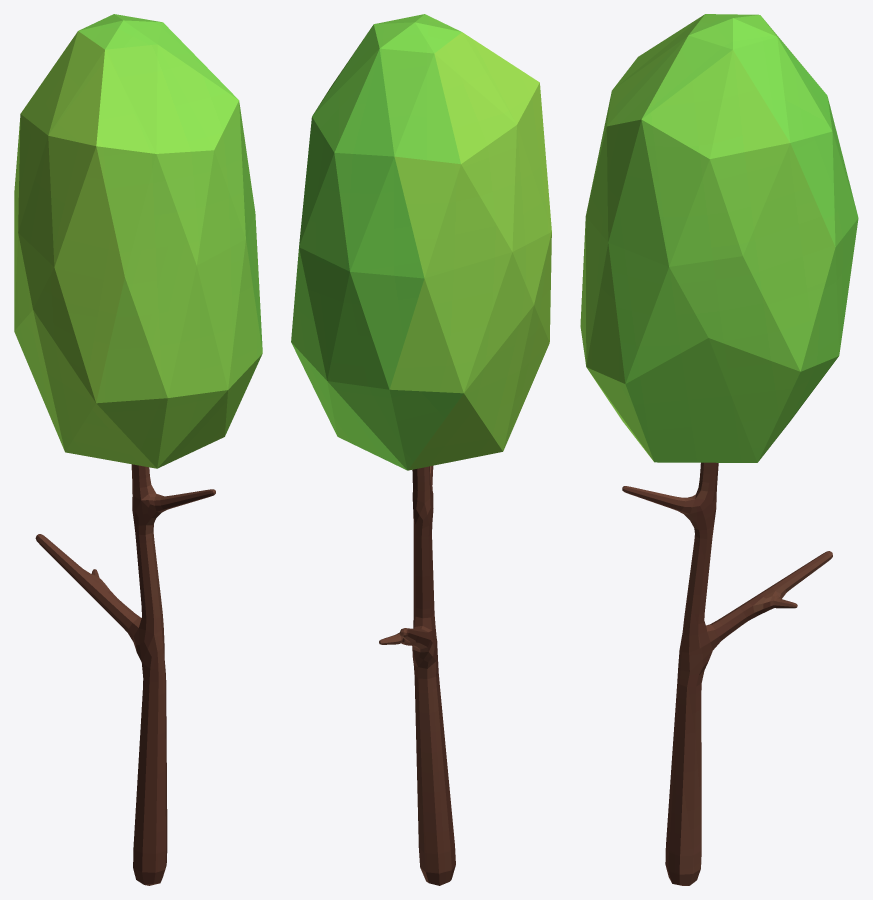
Rendered from Tree1.fbx.
3 views of the same model, side by side, from view 1: azimuth 30°, elevation 25°; view 2: azimuth 150°, elevation 25°; view 3: azimuth 270°, elevation 25° (orthographic). The views are drawn at different scales.
Visible parts, largest first — view 1: Tree1_LOD0; view 2: Tree1_LOD0; view 3: Tree1_LOD0.
Boxes of the visible parts, left/top/right/bottom form: Tree1_LOD0: left=14, top=14, right=262, bottom=885; Tree1_LOD0: left=291, top=14, right=551, bottom=885; Tree1_LOD0: left=580, top=14, right=858, bottom=885.
Size of what is drawn, in the model's own units: 351 by 1401 by 407.
